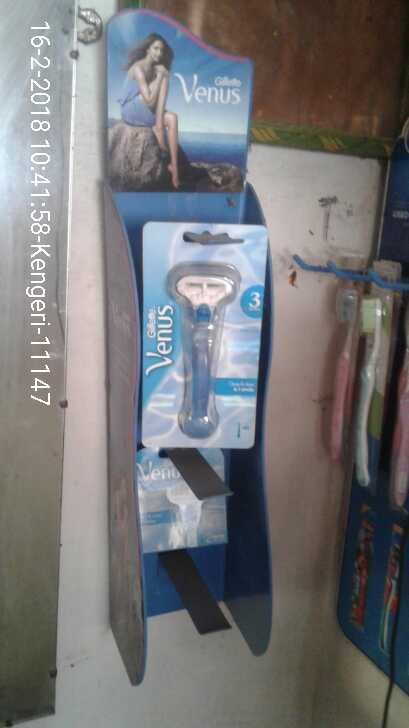venus: (144, 221, 260, 447), (137, 459, 228, 545)
